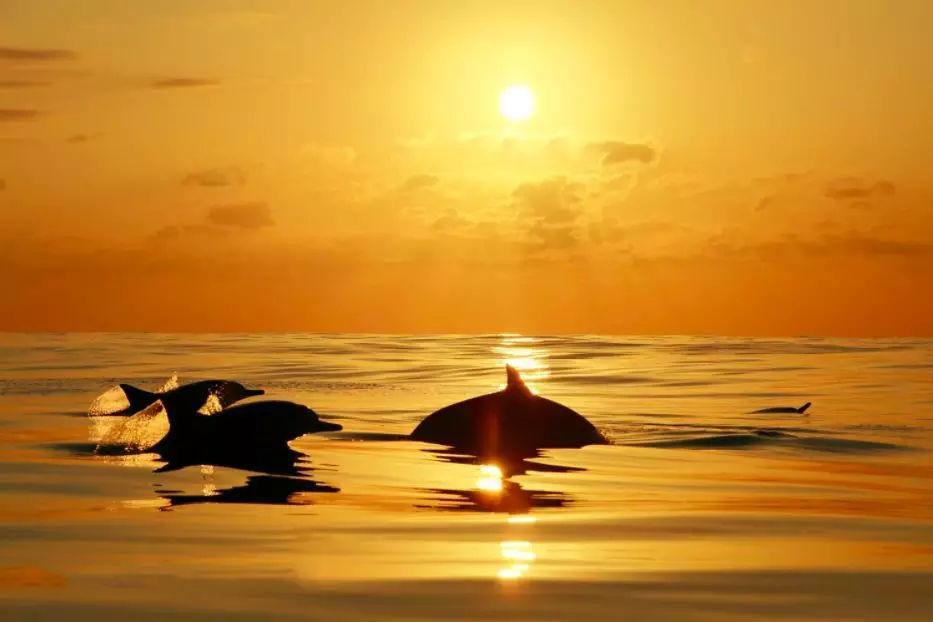fish: (405, 365, 614, 460), (142, 388, 345, 465), (113, 375, 265, 427)
